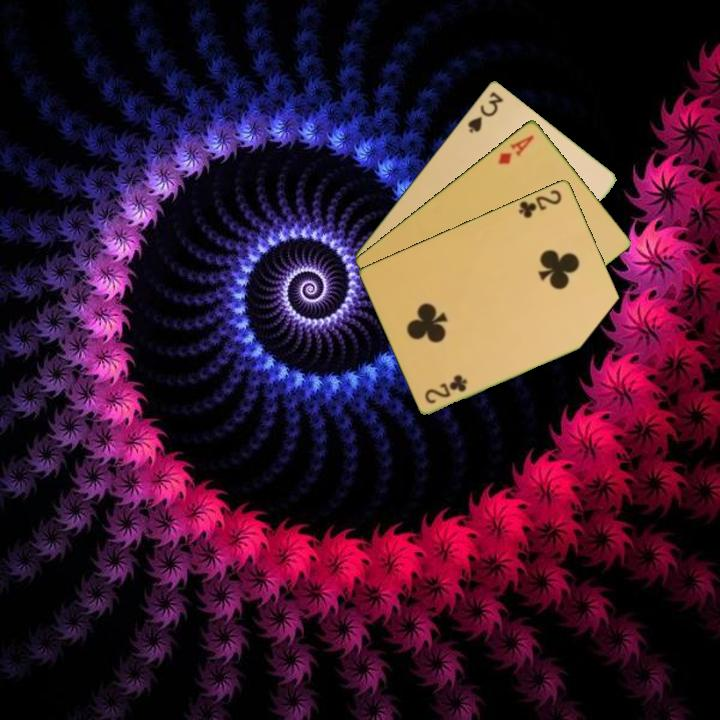2c: (515, 186, 565, 221), (421, 372, 471, 406)
3s: (464, 87, 506, 135)
Ad: (494, 131, 537, 167)
